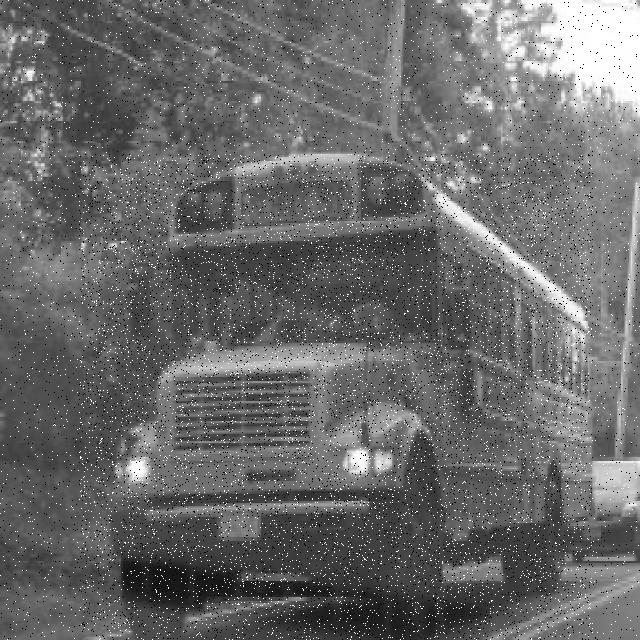Bus: (79, 154, 593, 640)
